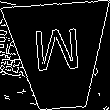M_S: (33, 29, 85, 83)
